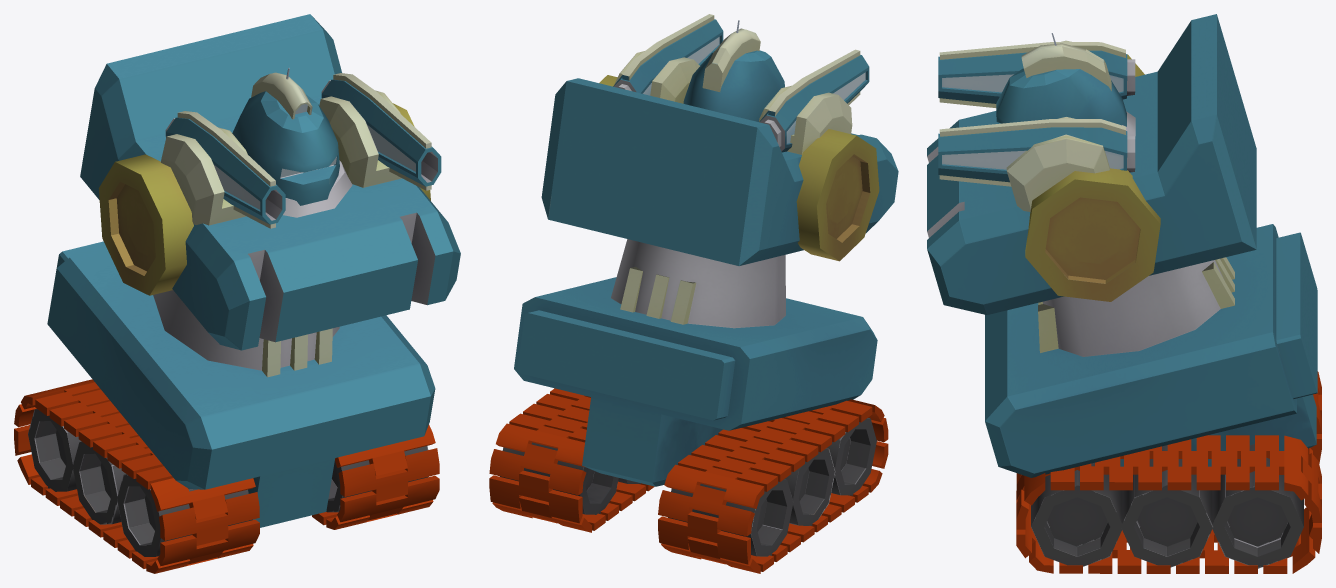
File: player_move1.obj
3 views of the same model, side by side, from view 1: azimuth 30°, elevation 25°; view 2: azimuth 150°, elevation 25°; view 3: azimuth 270°, elevation 25° (orthographic). The views are drawn at different scales.
Parts seen in each view (by area): view 1: Object004, Box038, Object012, Object011, Box042; view 2: Object004, Box038, Box042, Object011, Object012; view 3: Object004, Object011, Box042, Object012, Box038.
Boxes of the visible parts, x1=… form: Object004: x1=47, y1=14, x2=460, y2=527; Box038: x1=14, y1=379, x2=259, y2=573; Object012: x1=165, y1=73, x2=441, y2=228; Object011: x1=28, y1=409, x2=428, y2=556; Box042: x1=312, y1=425, x2=439, y2=529; Object004: x1=514, y1=28, x2=898, y2=486; Box038: x1=658, y1=399, x2=888, y2=573; Box042: x1=489, y1=388, x2=654, y2=532; Object011: x1=500, y1=417, x2=876, y2=556; Object012: x1=613, y1=14, x2=869, y2=152; Object004: x1=927, y1=14, x2=1317, y2=477; Object011: x1=1031, y1=443, x2=1303, y2=568; Box042: x1=1016, y1=435, x2=1321, y2=573; Object012: x1=938, y1=42, x2=1135, y2=186; Box038: x1=1308, y1=371, x2=1321, y2=463.
Size of the model in its own units: 110 by 180 by 135.
Materials: 3 (1 with a texture image).
